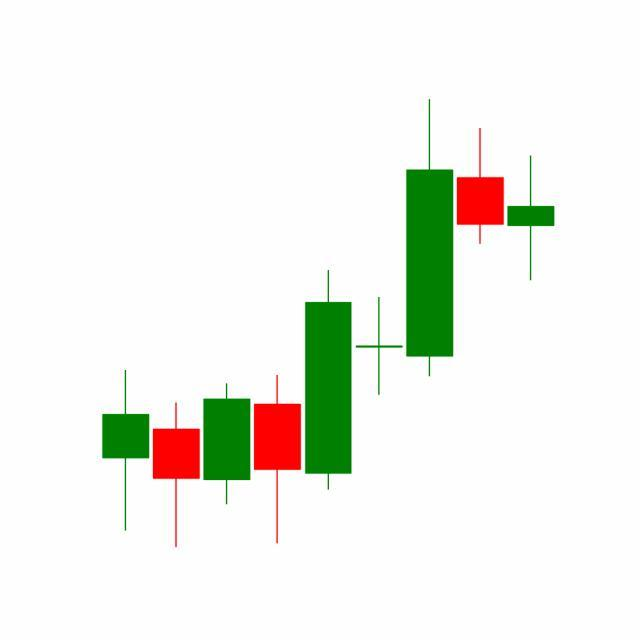Hikkake Pattern: (302, 99, 555, 495)
